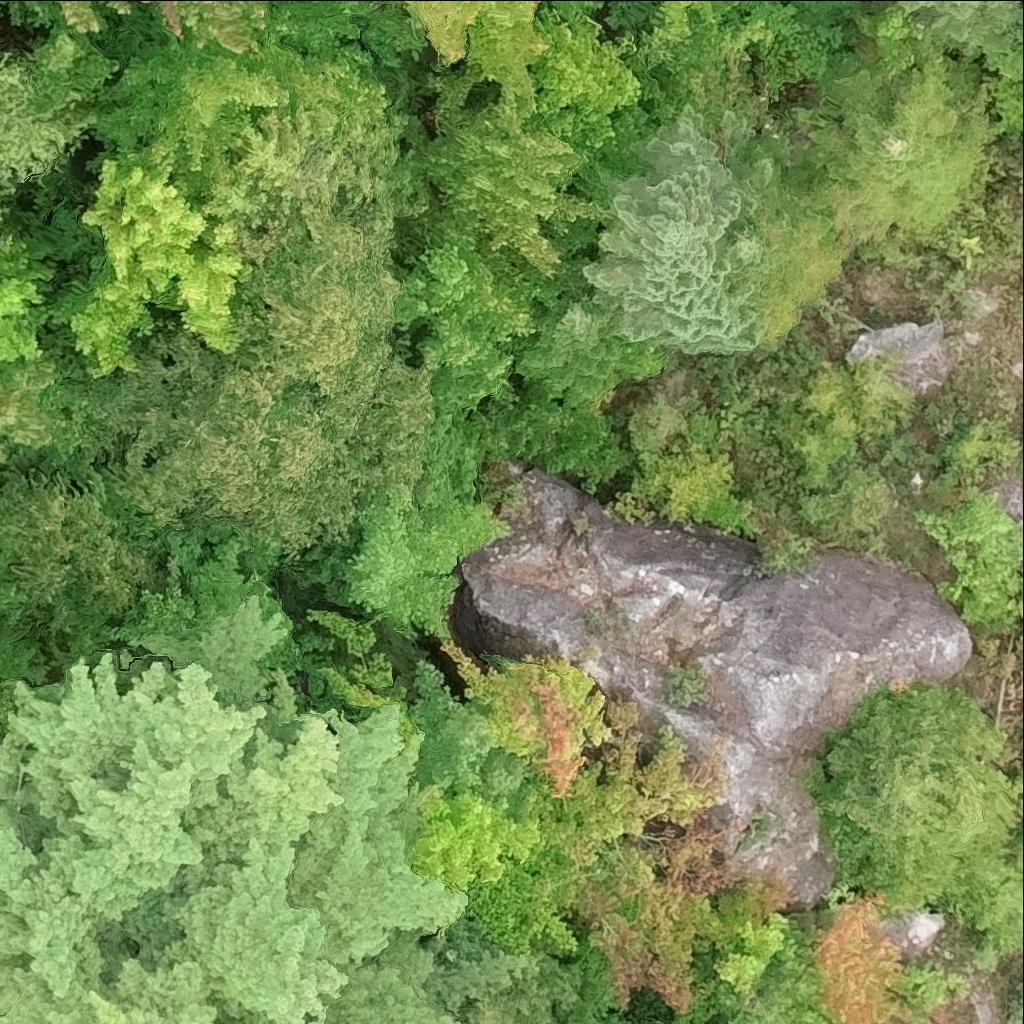crown: (0, 598, 529, 1023), (104, 329, 444, 562), (565, 697, 787, 1014), (583, 103, 773, 355), (810, 684, 1019, 909), (230, 144, 401, 395), (812, 57, 997, 269), (65, 150, 240, 373), (407, 637, 613, 822), (424, 97, 609, 274), (392, 221, 556, 414), (327, 483, 510, 642), (718, 135, 849, 345), (462, 793, 613, 962), (108, 47, 282, 172), (0, 29, 109, 188), (404, 0, 548, 116), (914, 486, 1023, 632), (797, 893, 913, 1023), (410, 787, 538, 896), (202, 109, 312, 229), (516, 296, 636, 400), (939, 835, 1023, 966), (777, 365, 861, 487), (0, 355, 79, 459), (799, 462, 891, 549), (709, 912, 797, 1002), (847, 357, 918, 465), (898, 0, 1023, 55), (0, 236, 51, 366), (155, 0, 270, 50), (21, 0, 107, 38), (112, 0, 133, 7), (0, 216, 3, 228)
